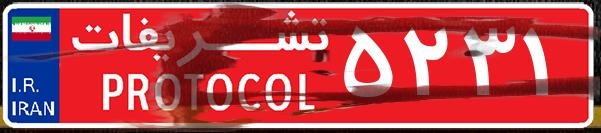1: (520, 20, 580, 115)
2: (400, 20, 460, 115)
3: (460, 20, 520, 115)
5: (340, 20, 400, 115)
تشریفات: (60, 8, 340, 125)
